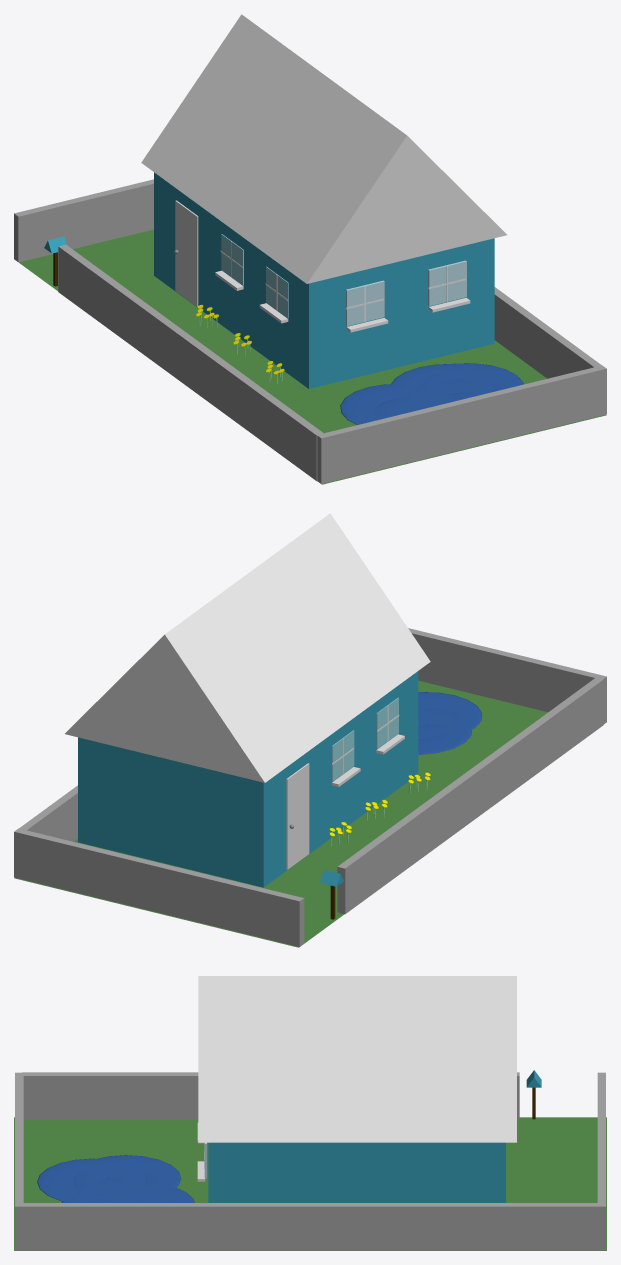
File: House 2 game 2.fbx
3 views of the same model, one above another, from view 1: azimuth 30°, elevation 25°; view 2: azimuth 150°, elevation 25°; view 3: azimuth 270°, elevation 25° (orthographic). The views are drawn at different scales.
Parts seen in each view (by area): view 1: pasted__right_roof, pasted__right_house, pasted__side_wall1, pasted__pasted__back_wall, pasted__ground, pasted__side_wall, pasted__back_wall, pasted__door, pasted__pasted__pTorus2, pasted__pasted__pTorus3, pasted__pasted__pTorus4, pasted__pasted__pasted__pasted__pasted__pasted__pCube1 (+5 smaller); view 2: pasted__right_roof, pasted__right_house, pasted__side_wall, pasted__pasted__back_wall, pasted__ground, pasted__side_wall1, pasted__door, pasted__pasted__pTorus1, pasted__back_wall, pasted__pasted__pTorus2, pasted__pasted__pCube1, pasted__pasted__pasted__pCube1; view 3: pasted__right_roof, pasted__back_wall, pasted__right_house, pasted__ground, pasted__pasted__back_wall, pasted__pasted__pTorus1, pasted__pasted__pTorus2, pasted__side_wall1, pasted__side_wall, pasted__pTorus1, pasted__pasted__pTorus3, pasted__pasted__pTorus4.
Boxes of the visible parts, <box> form: pasted__right_roof: <box>141,14,506,283</box>; pasted__right_house: <box>154,172,494,388</box>; pasted__side_wall1: <box>317,365,606,483</box>; pasted__pasted__back_wall: <box>58,244,323,481</box>; pasted__ground: <box>19,229,606,484</box>; pasted__side_wall: <box>14,179,153,262</box>; pasted__back_wall: <box>494,287,602,378</box>; pasted__door: <box>175,200,198,306</box>; pasted__pasted__pTorus2: <box>340,384,437,424</box>; pasted__pasted__pTorus3: <box>391,363,494,403</box>; pasted__pasted__pTorus4: <box>419,363,523,402</box>; pasted__pasted__pasted__pasted__pasted__pasted__pCube1: <box>428,260,466,306</box>; pasted__right_roof: <box>65,513,430,782</box>; pasted__right_house: <box>78,671,418,887</box>; pasted__side_wall: <box>14,828,304,946</box>; pasted__pasted__back_wall: <box>337,677,603,914</box>; pasted__ground: <box>14,680,547,947</box>; pasted__side_wall1: <box>408,628,606,724</box>; pasted__door: <box>286,763,309,869</box>; pasted__pasted__pTorus1: <box>418,692,482,738</box>; pasted__back_wall: <box>17,785,77,841</box>; pasted__pasted__pTorus2: <box>418,707,471,754</box>; pasted__pasted__pCube1: <box>331,730,354,781</box>; pasted__pasted__pasted__pCube1: <box>376,697,398,748</box>; pasted__right_roof: <box>198,976,516,1142</box>; pasted__back_wall: <box>22,1203,601,1250</box>; pasted__right_house: <box>208,1142,505,1202</box>; pasted__ground: <box>14,1117,606,1250</box>; pasted__pasted__back_wall: <box>22,1072,519,1119</box>; pasted__pasted__pTorus1: <box>37,1158,145,1201</box>; pasted__pasted__pTorus2: <box>73,1155,181,1195</box>; pasted__side_wall1: <box>15,1072,23,1250</box>; pasted__side_wall: <box>597,1072,605,1250</box>; pasted__pTorus1: <box>61,1177,156,1202</box>; pasted__pasted__pTorus3: <box>108,1185,194,1202</box>; pasted__pasted__pTorus4: <box>91,1194,170,1202</box>.
Bounding box in the file's own units: 37.24 × 28.93 × 68.76.
